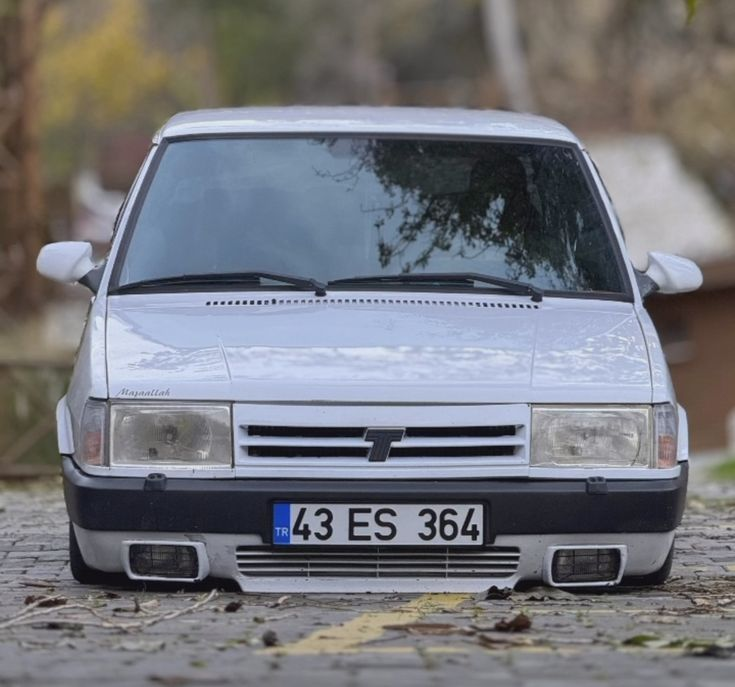plate: (272, 502, 486, 548)
